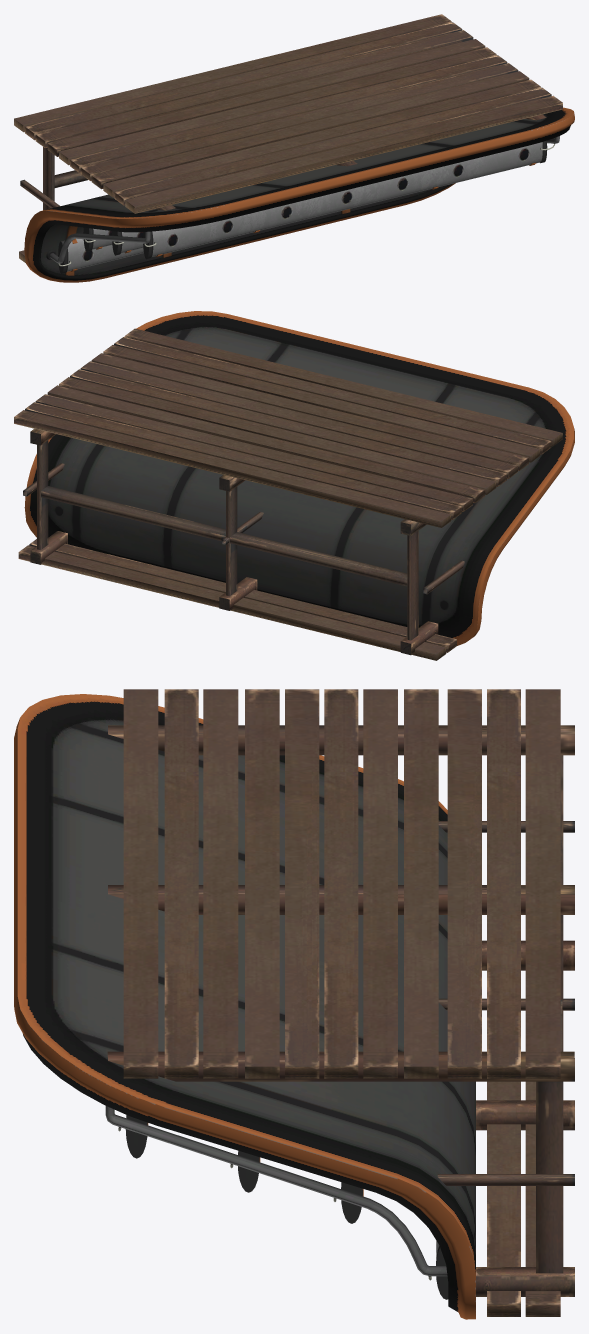
File: nt_hydro_cabbage_holders_LOD0.obj
3 views of the same model, one above another, from view 1: azimuth 30°, elevation 25°; view 2: azimuth 150°, elevation 25°; view 3: azimuth 270°, elevation 25° (orthographic). The views are drawn at different scales.
Parts seen in each view (by area): view 1: mtl_p_jun_bench_wood_weathered01, mtl_nt_hydro_cabbage_holders, nt_2020_pipes_ceramic_holes; view 2: mtl_p_jun_bench_wood_weathered01, mtl_nt_hydro_cabbage_holders; view 3: mtl_p_jun_bench_wood_weathered01, mtl_nt_hydro_cabbage_holders, nt_2020_pipes_ceramic_holes.
Boxes of the visible parts, box(x1,y1,x2,y2) form: mtl_p_jun_bench_wood_weathered01: box(14, 14, 562, 262); mtl_nt_hydro_cabbage_holders: box(24, 107, 574, 282); nt_2020_pipes_ceramic_holes: box(58, 140, 547, 273); mtl_p_jun_bench_wood_weathered01: box(14, 328, 562, 660); mtl_nt_hydro_cabbage_holders: box(24, 311, 574, 645); mtl_p_jun_bench_wood_weathered01: box(107, 689, 574, 1316); mtl_nt_hydro_cabbage_holders: box(14, 694, 475, 1319); nt_2020_pipes_ceramic_holes: box(125, 1115, 448, 1299).
Bounding box in the file's own units: 325 × 113 × 193.
